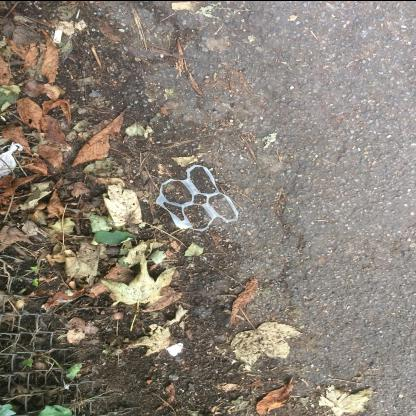plastik: (155, 163, 240, 231)
